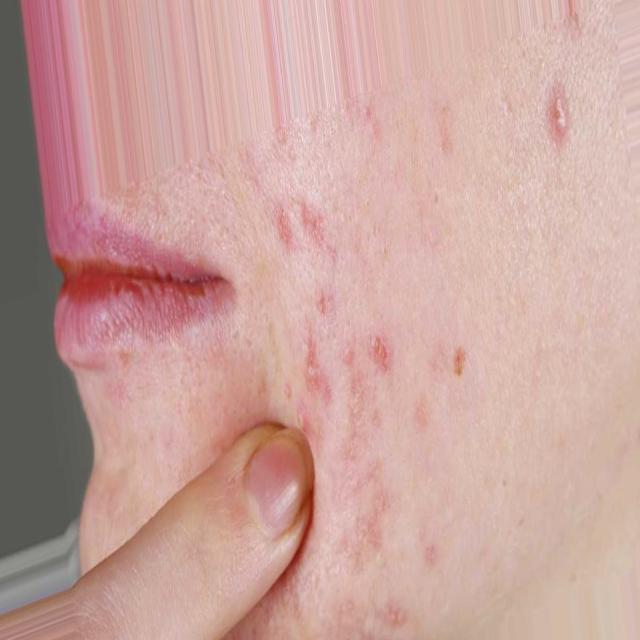acne: (271, 200, 329, 256), (286, 387, 318, 451), (363, 324, 398, 380), (300, 342, 333, 400), (382, 582, 418, 632), (358, 102, 392, 154), (440, 334, 473, 387), (550, 90, 579, 147), (429, 106, 456, 164), (358, 502, 386, 556), (420, 529, 444, 569), (310, 289, 336, 321)
